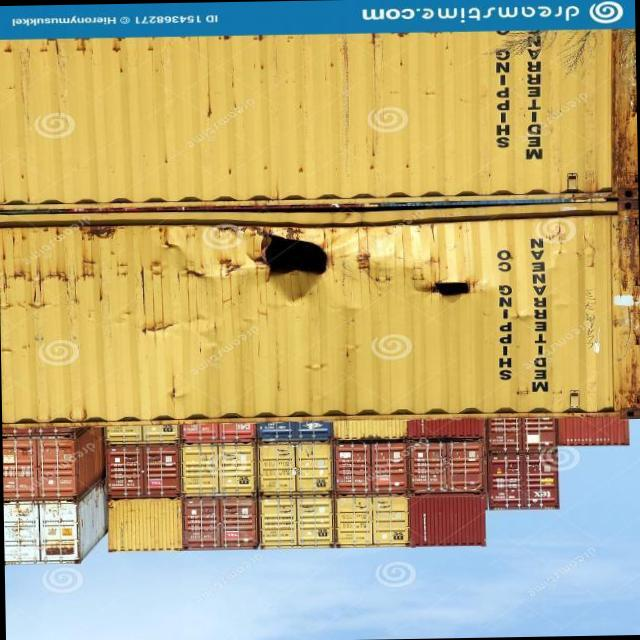Hole: (232, 218, 346, 306), (406, 262, 490, 321)
Rust: (28, 223, 157, 315)
